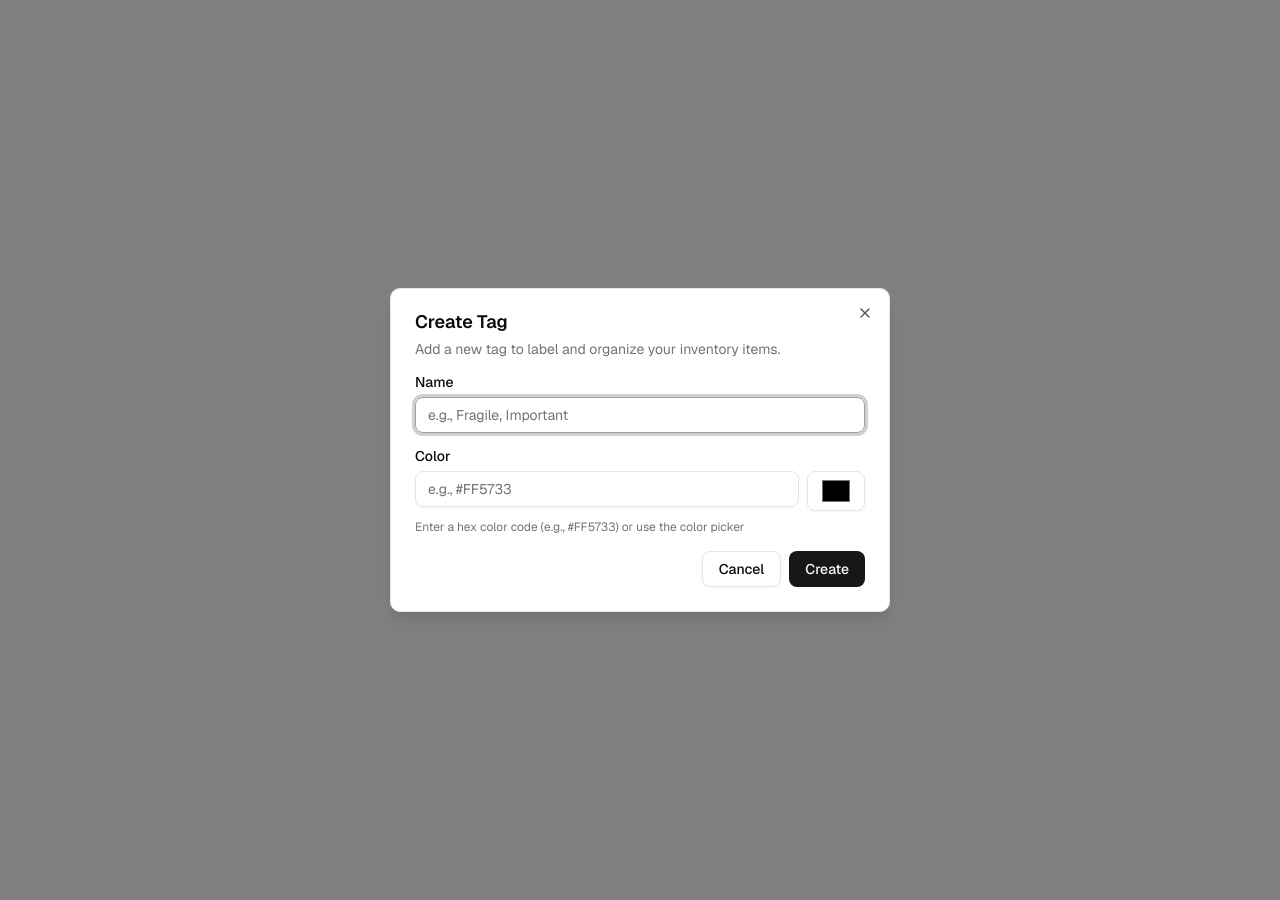
Scenario: TagForm Component › Form Validation › should validate hex color format
Type "Test Tag" into the field labelled "Name".
click(640, 415); type("Test Tag")  # box [415, 397, 865, 433]
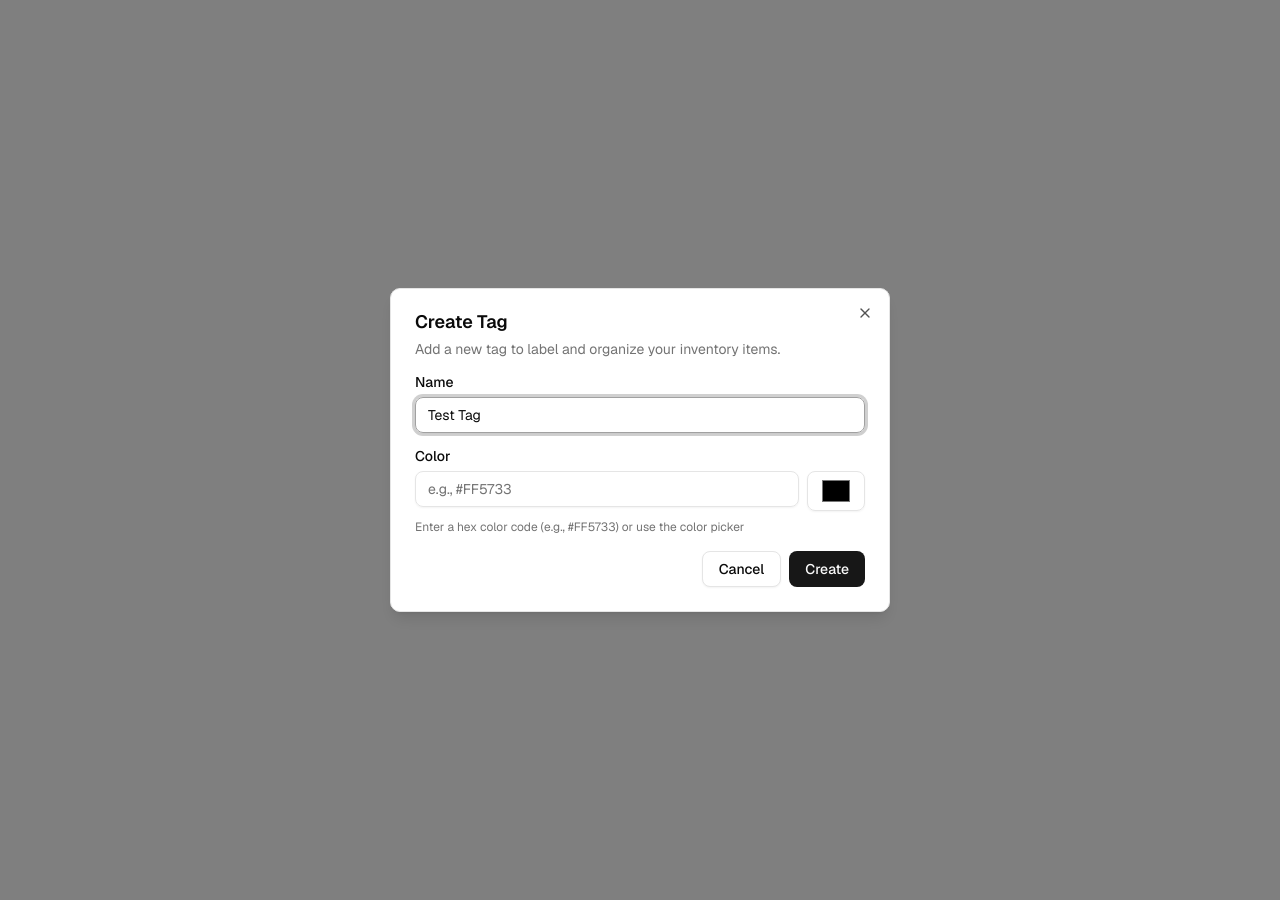
Type "invalid-color" into the field with placeholder "e.g., #FF5733".
click(607, 489); type("invalid-color")  # box [415, 471, 799, 507]
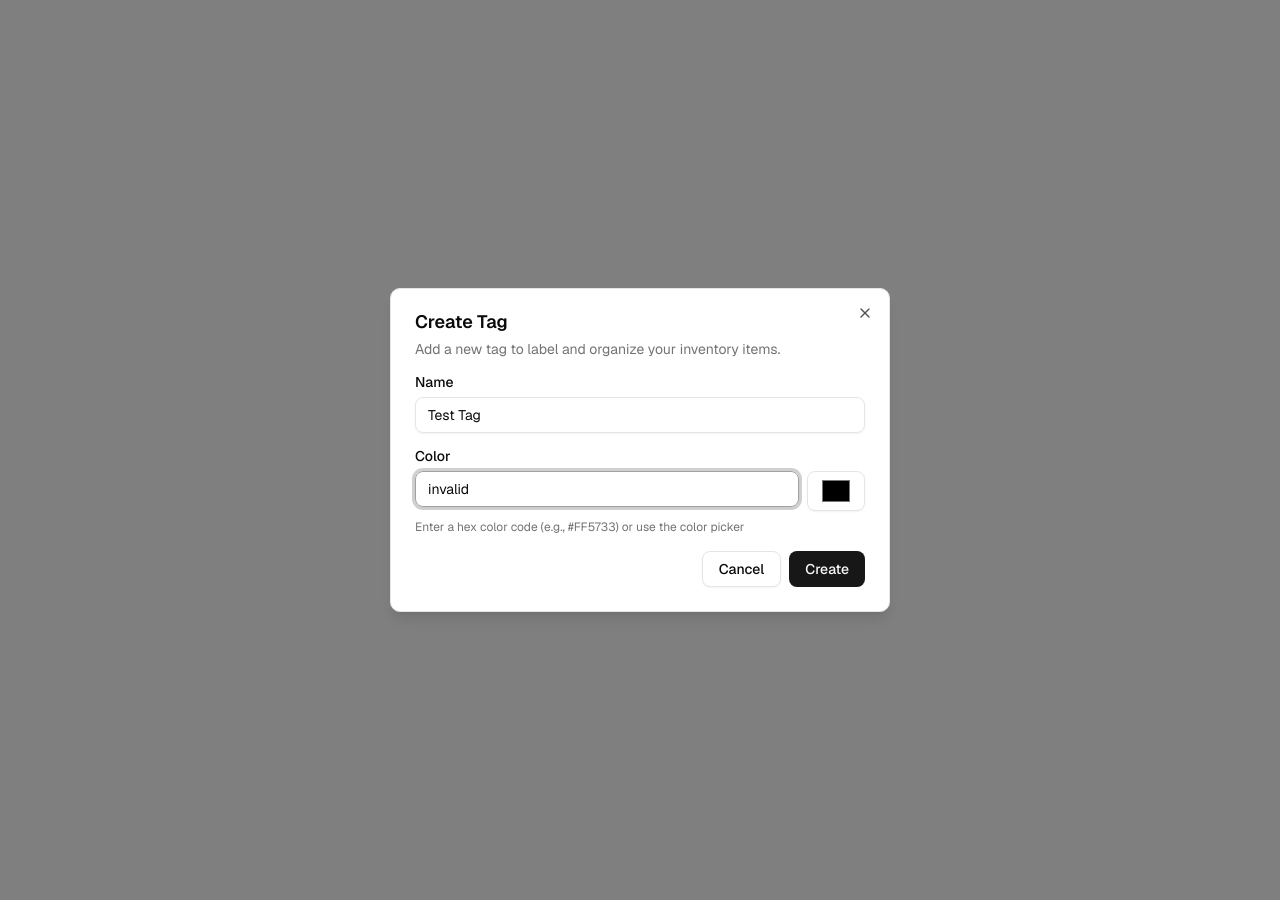
Click the button "Create".
click(827, 569)  # box [789, 551, 865, 587]
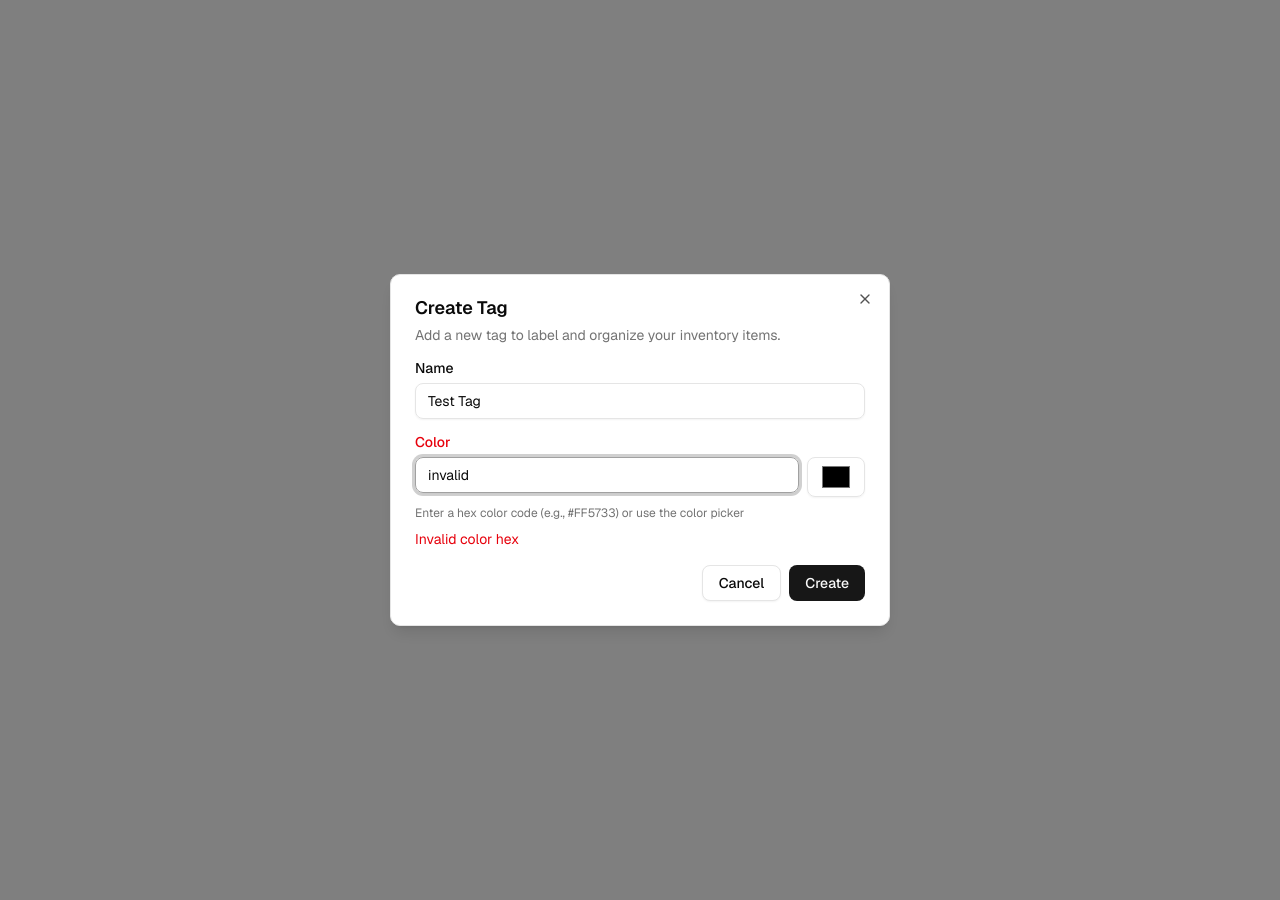
Now the text "Invalid color hex" is shown, box [415, 530, 519, 548]
